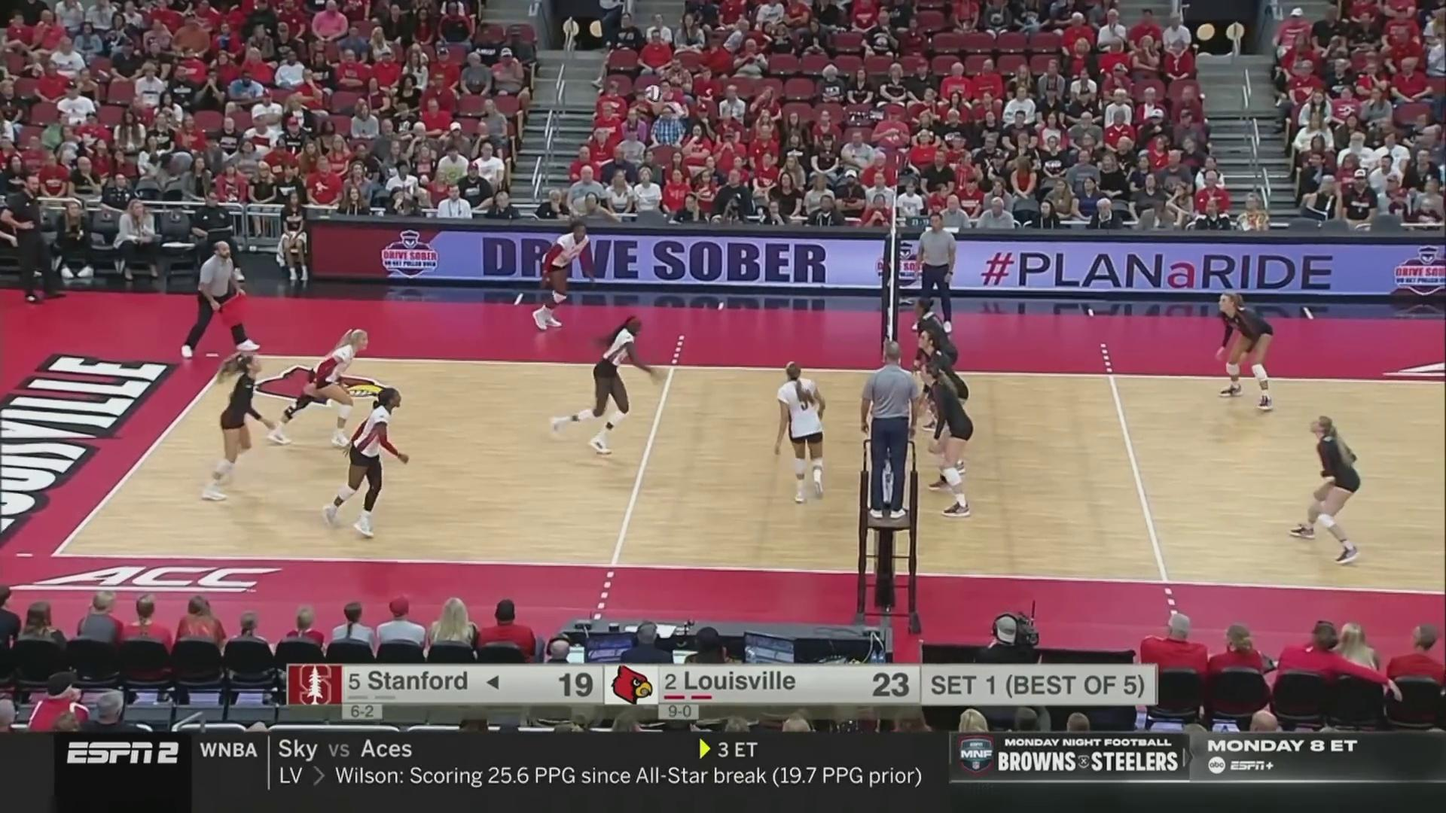player: (550, 315, 652, 457), (322, 387, 406, 537), (267, 327, 370, 444), (202, 353, 275, 503), (1289, 414, 1361, 560), (768, 362, 828, 500), (921, 362, 974, 516), (1216, 291, 1274, 412), (530, 224, 590, 329), (919, 333, 967, 464), (912, 297, 956, 430)
refree: (861, 343, 916, 520), (180, 239, 258, 352), (915, 215, 956, 331)
